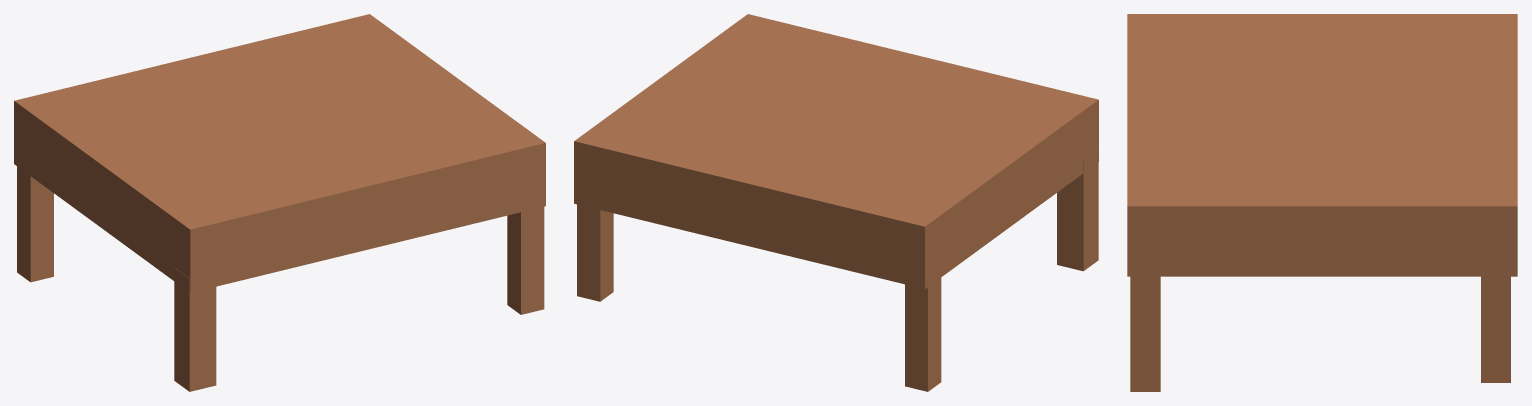
3 views of the same model, side by side, from view 1: azimuth 30°, elevation 25°; view 2: azimuth 150°, elevation 25°; view 3: azimuth 270°, elevation 25° (orthographic). The views are drawn at different scales.
Visible parts, largest first — view 1: root (×4); view 2: root (×4); view 3: root (×3).
Boxes of the visible parts, x1,y1,x2,y2 form: root (×4): (14, 14, 545, 391); root (×4): (574, 14, 1098, 391); root (×3): (1127, 14, 1517, 391).
Size of the model in its own units: 0.3221 by 0.1467 by 0.2761.
Materials: 3 (3 with a texture image).
